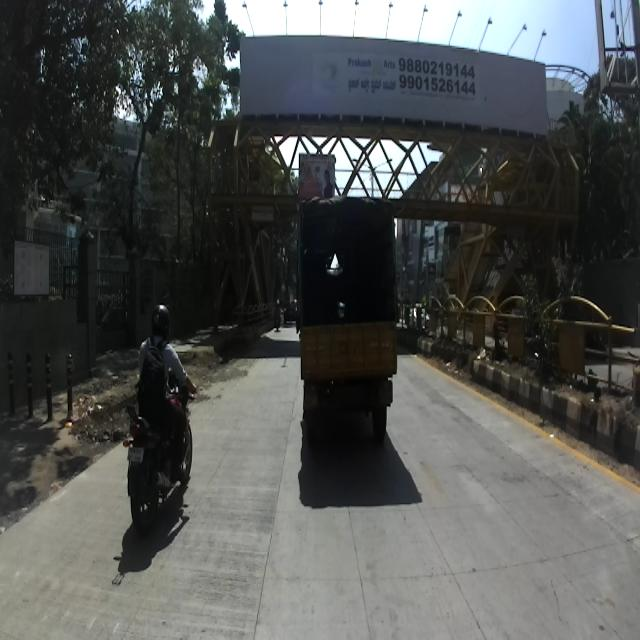barrier ahead at: (62, 352, 82, 426), (41, 351, 54, 426), (22, 351, 35, 423), (6, 351, 16, 416)
motorcycle ahead at: (120, 395, 197, 524)
truck ahead at: (291, 192, 401, 446)
